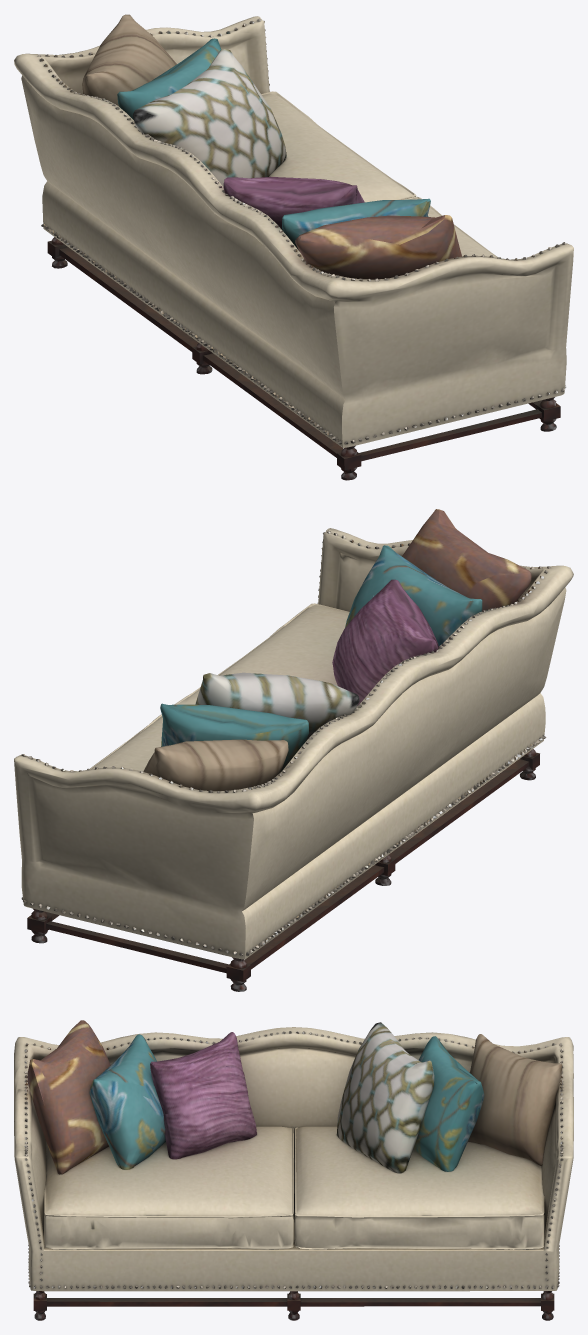
3 views of the same model, one above another, from view 1: azimuth 30°, elevation 25°; view 2: azimuth 150°, elevation 25°; view 3: azimuth 270°, elevation 25° (orthographic). The views are drawn at different scales.
Visible parts, largest first — view 1: Three-Seat_/_Multi-person_sofa_solid_001.001, Three-Seat_/_Multi-person_sofa.006_solid_007.001, Three-Seat_/_Multi-person_sofa.004_solid_005.001, Three-Seat_/_Multi-person_sofa.002_solid_003.001, Three-Seat_/_Multi-person_sofa.003_solid_004.001, Three-Seat_/_Multi-person_sofa.007_solid_008.001, Three-Seat_/_Multi-person_sofa.005_solid_006.001, Three-Seat_/_Multi-person_sofa.001_solid_002.001; view 2: Three-Seat_/_Multi-person_sofa_solid_001.001, Three-Seat_/_Multi-person_sofa.003_solid_004.001, Three-Seat_/_Multi-person_sofa.002_solid_003.001, Three-Seat_/_Multi-person_sofa.005_solid_006.001, Three-Seat_/_Multi-person_sofa.004_solid_005.001, Three-Seat_/_Multi-person_sofa.007_solid_008.001, Three-Seat_/_Multi-person_sofa.006_solid_007.001, Three-Seat_/_Multi-person_sofa.001_solid_002.001; view 3: Three-Seat_/_Multi-person_sofa_solid_001.001, Three-Seat_/_Multi-person_sofa.003_solid_004.001, Three-Seat_/_Multi-person_sofa.006_solid_007.001, Three-Seat_/_Multi-person_sofa.005_solid_006.001, Three-Seat_/_Multi-person_sofa.007_solid_008.001, Three-Seat_/_Multi-person_sofa.004_solid_005.001, Three-Seat_/_Multi-person_sofa.002_solid_003.001, Three-Seat_/_Multi-person_sofa.001_solid_002.001.
Boxes of the visible parts, x1,y1,x2,y2 form: Three-Seat_/_Multi-person_sofa_solid_001.001: [14, 16, 573, 447]; Three-Seat_/_Multi-person_sofa.006_solid_007.001: [132, 49, 286, 186]; Three-Seat_/_Multi-person_sofa.004_solid_005.001: [295, 215, 461, 279]; Three-Seat_/_Multi-person_sofa.002_solid_003.001: [47, 237, 560, 480]; Three-Seat_/_Multi-person_sofa.003_solid_004.001: [117, 38, 430, 251]; Three-Seat_/_Multi-person_sofa.007_solid_008.001: [82, 14, 176, 106]; Three-Seat_/_Multi-person_sofa.005_solid_006.001: [223, 176, 364, 230]; Three-Seat_/_Multi-person_sofa.001_solid_002.001: [37, 18, 569, 444]; Three-Seat_/_Multi-person_sofa_solid_001.001: [14, 528, 573, 959]; Three-Seat_/_Multi-person_sofa.003_solid_004.001: [160, 545, 482, 772]; Three-Seat_/_Multi-person_sofa.002_solid_003.001: [27, 749, 539, 991]; Three-Seat_/_Multi-person_sofa.005_solid_006.001: [332, 579, 438, 706]; Three-Seat_/_Multi-person_sofa.004_solid_005.001: [402, 509, 531, 611]; Three-Seat_/_Multi-person_sofa.007_solid_008.001: [143, 739, 288, 791]; Three-Seat_/_Multi-person_sofa.006_solid_007.001: [195, 672, 359, 740]; Three-Seat_/_Multi-person_sofa.001_solid_002.001: [21, 530, 550, 956]; Three-Seat_/_Multi-person_sofa_solid_001.001: [14, 1027, 573, 1291]; Three-Seat_/_Multi-person_sofa.003_solid_004.001: [89, 1034, 484, 1171]; Three-Seat_/_Multi-person_sofa.006_solid_007.001: [336, 1022, 434, 1173]; Three-Seat_/_Multi-person_sofa.005_solid_006.001: [150, 1032, 256, 1159]; Three-Seat_/_Multi-person_sofa.007_solid_008.001: [468, 1034, 562, 1165]; Three-Seat_/_Multi-person_sofa.004_solid_005.001: [27, 1020, 110, 1174]; Three-Seat_/_Multi-person_sofa.002_solid_003.001: [33, 1291, 554, 1320]; Three-Seat_/_Multi-person_sofa.001_solid_002.001: [24, 1031, 563, 1288].
Size of the model in its own units: 1 by 0.9329 by 2.22.
Materials: 1 (1 with a texture image).
